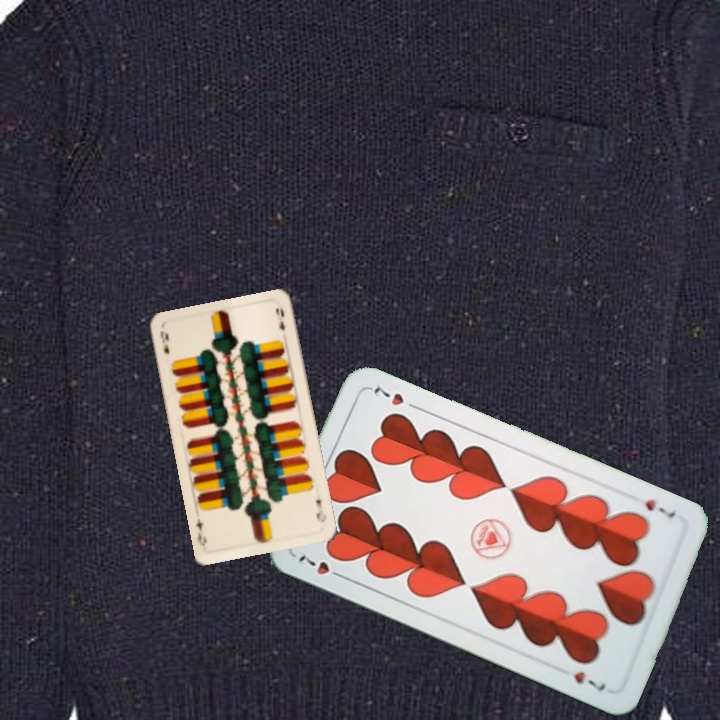E9: (311, 495, 329, 525), (156, 327, 172, 357)
H7: (294, 550, 348, 582), (632, 493, 679, 521)
